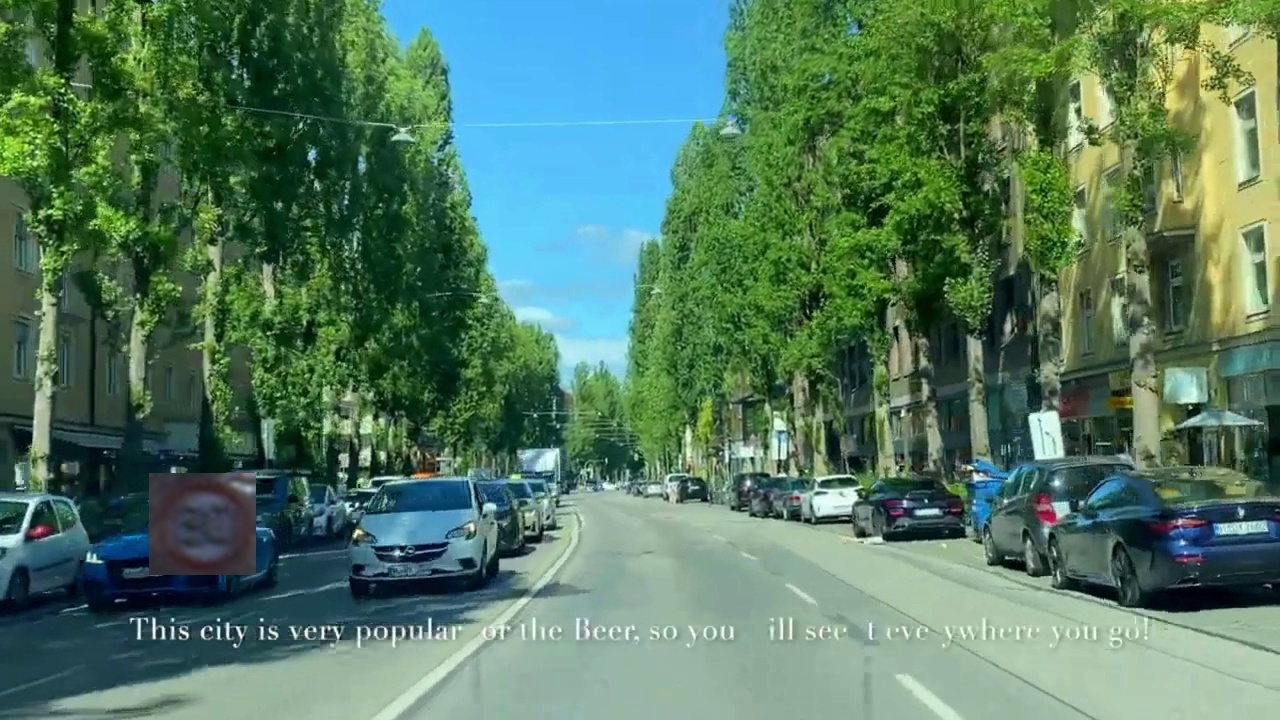Speed 80: (149, 473, 256, 575)
